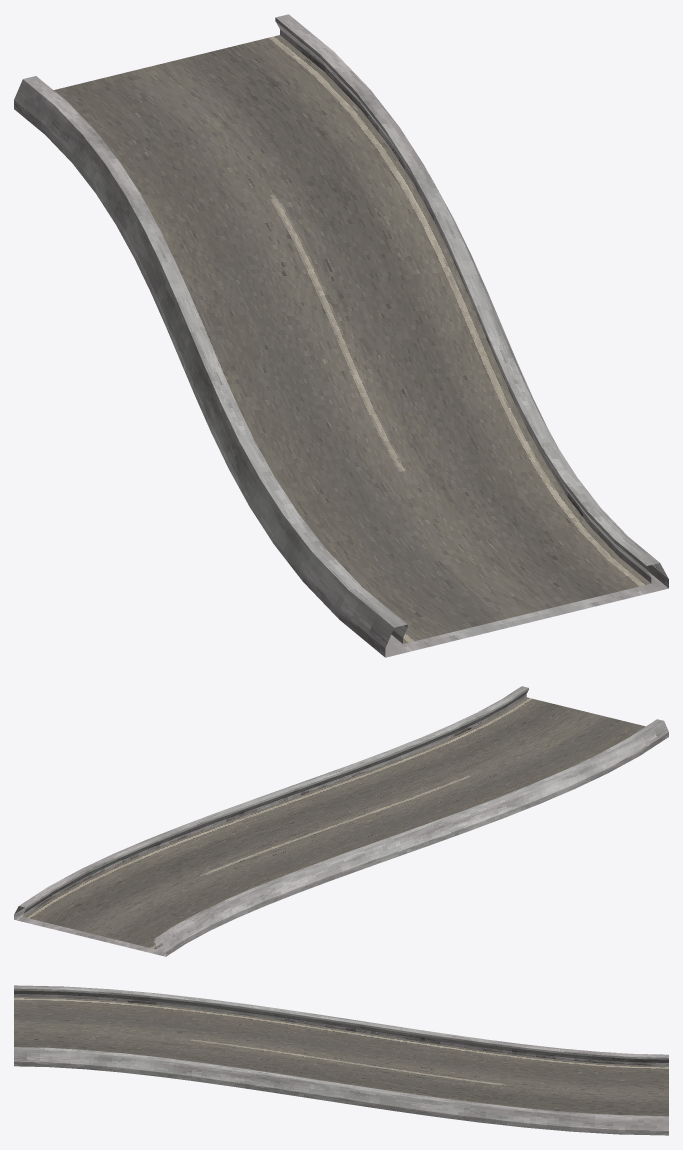
The model's file is chicane-right1x4.glb.
3 views of the same model, one above another, from view 1: azimuth 30°, elevation 25°; view 2: azimuth 150°, elevation 25°; view 3: azimuth 270°, elevation 25° (orthographic). The views are drawn at different scales.
Visible parts, largest first — view 1: road-Chicane-Flat-Flat-Even-Right1-Size4; view 2: road-Chicane-Flat-Flat-Even-Right1-Size4; view 3: road-Chicane-Flat-Flat-Even-Right1-Size4.
Boxes of the visible parts, x1=… form: road-Chicane-Flat-Flat-Even-Right1-Size4: x1=14, y1=14, x2=668, y2=657; road-Chicane-Flat-Flat-Even-Right1-Size4: x1=14, y1=686, x2=668, y2=956; road-Chicane-Flat-Flat-Even-Right1-Size4: x1=14, y1=985, x2=668, y2=1135.
Size of the model in its own units: 2 by 0.0938 by 4.
Materials: 2 (2 with a texture image).
